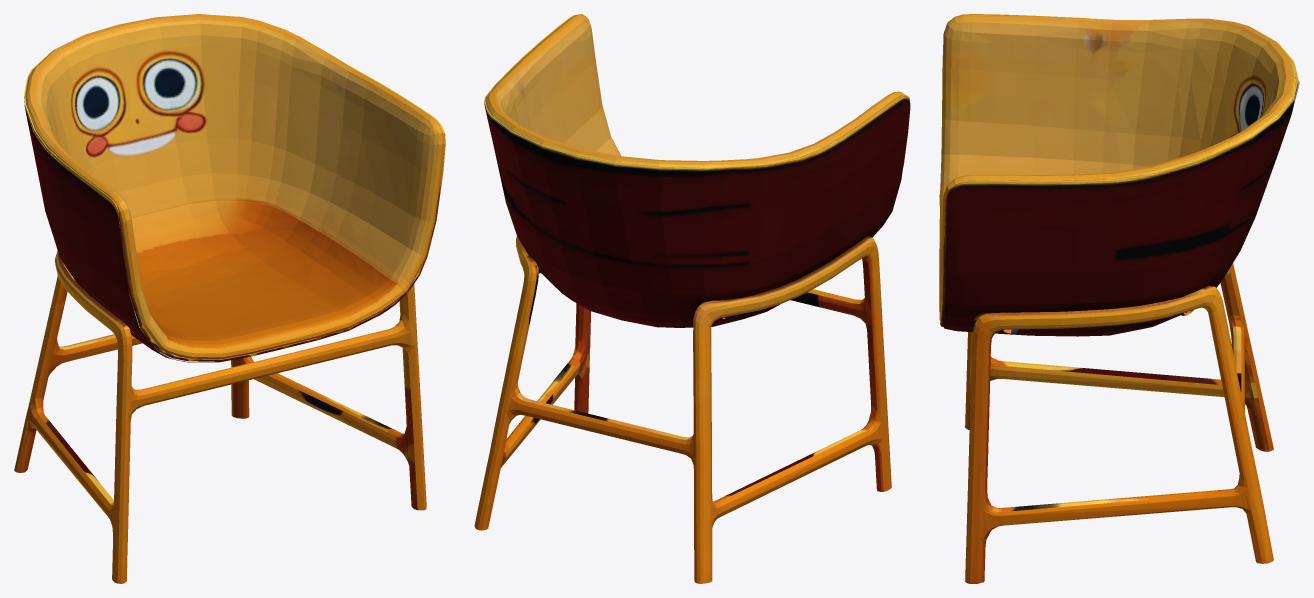
File: edited_mesh.glb
The picture shows the model from 3 angles, left to right: view 1: azimuth 30°, elevation 25°; view 2: azimuth 150°, elevation 25°; view 3: azimuth 270°, elevation 25°; orthographic projection. The views are drawn at different scales.
Parts seen in each view (by area): view 1: normalized_model.obj; view 2: normalized_model.obj; view 3: normalized_model.obj.
Part boxes in pixels (left/top/right/bottom): normalized_model.obj: left=14, top=14, right=445, bottom=583; normalized_model.obj: left=474, top=14, right=910, bottom=583; normalized_model.obj: left=939, top=14, right=1299, bottom=583.
Bounding box in the file's own units: 1.18 × 1.41 × 1.07.
1 material, 1 textured.
